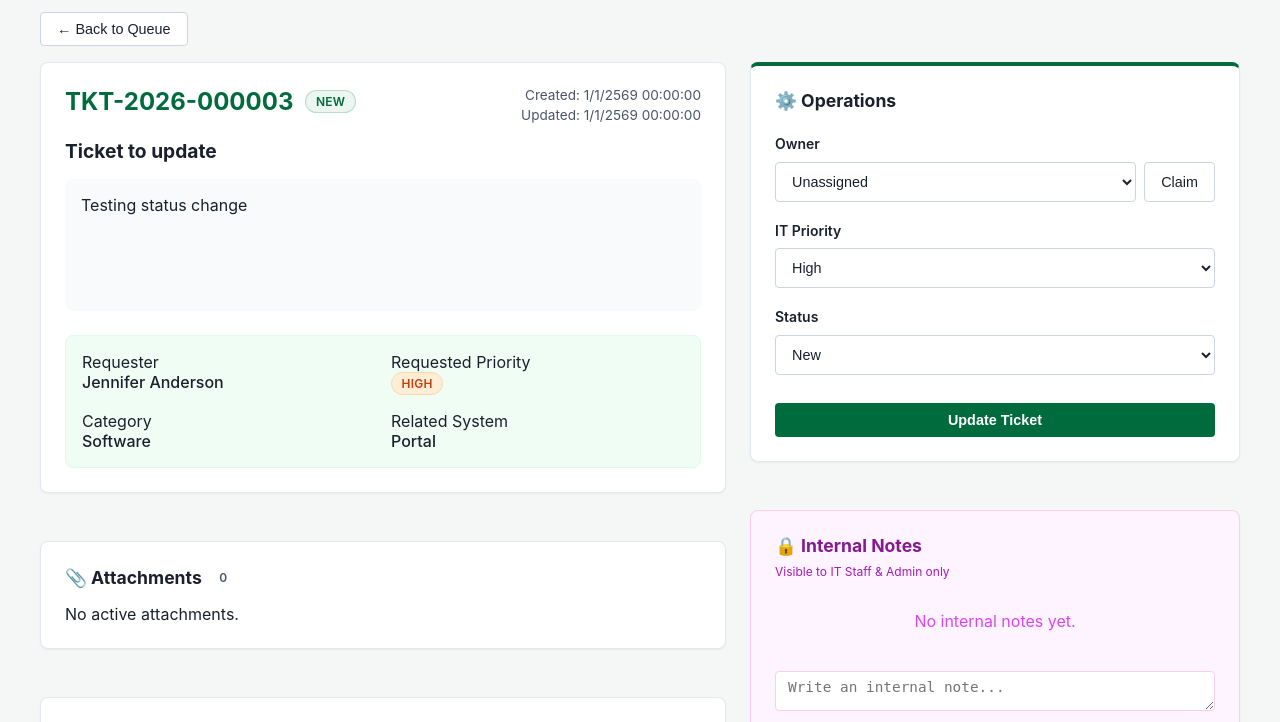
Test: Ticket Workflow UI Tests (UI-WF-*) › UI-WF-02: Successful status change refreshes displayed status badge immediately
Expected: the text with test id "ticket-status-badge" reads "New", [316,94,345,109]
Select "Open" in the dropdown with test id "status-select" at (995, 355), box [775,335,1215,375]
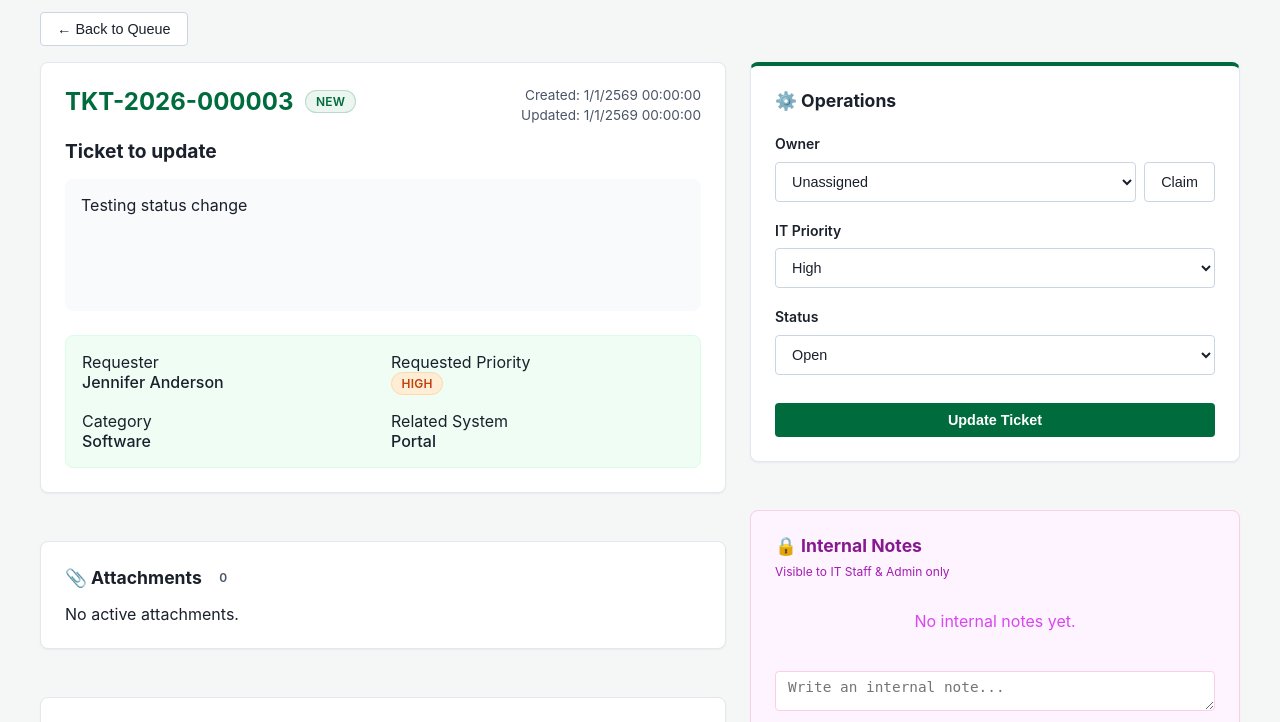
Click the button "Update Ticket" at (995, 420), box [775,403,1215,437]
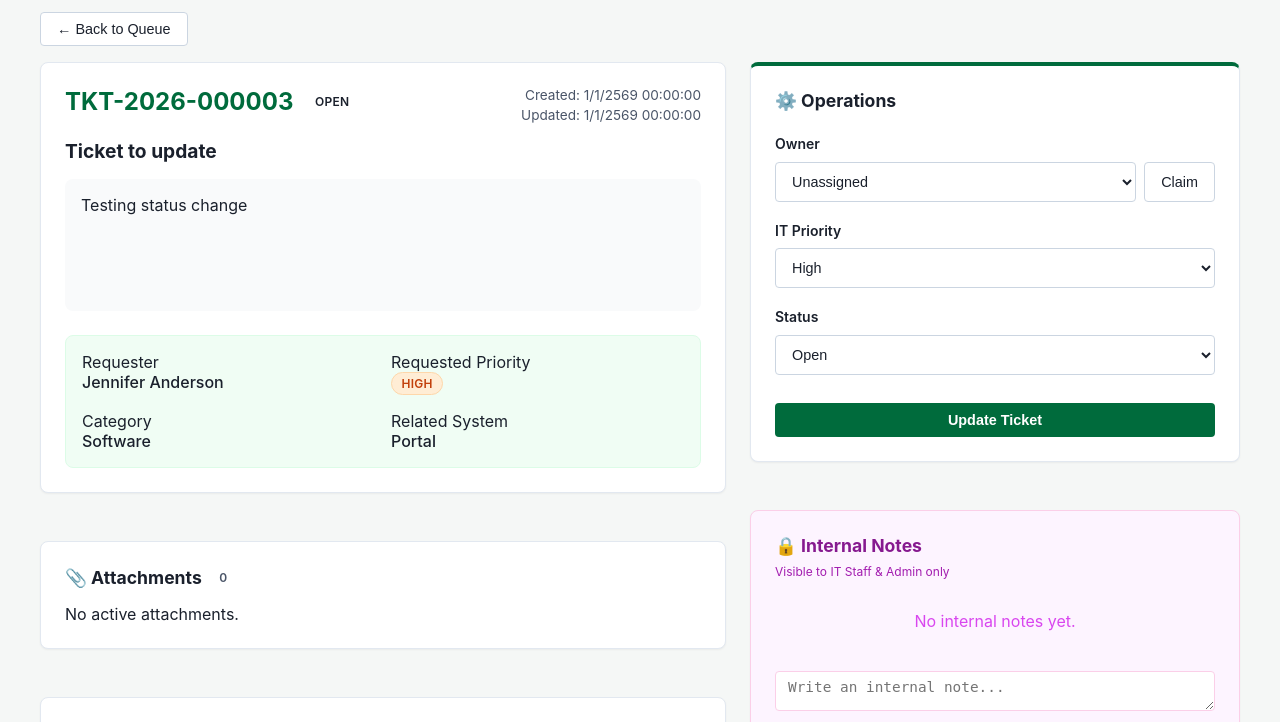
Now the text with test id "ticket-status-badge" reads "Open", box [315,94,349,109]
